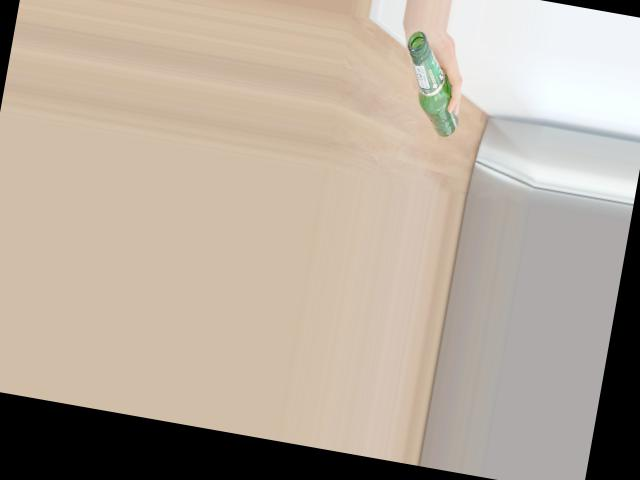beer: (392, 29, 471, 138)
